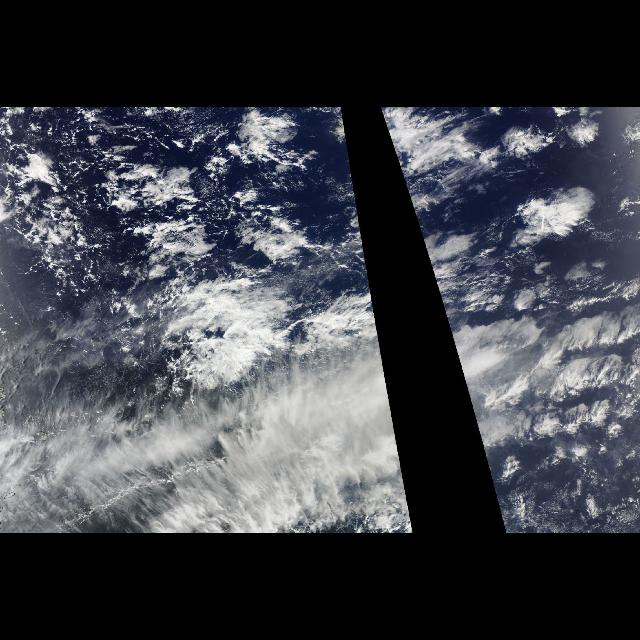Gravel: (4, 110, 276, 272)
